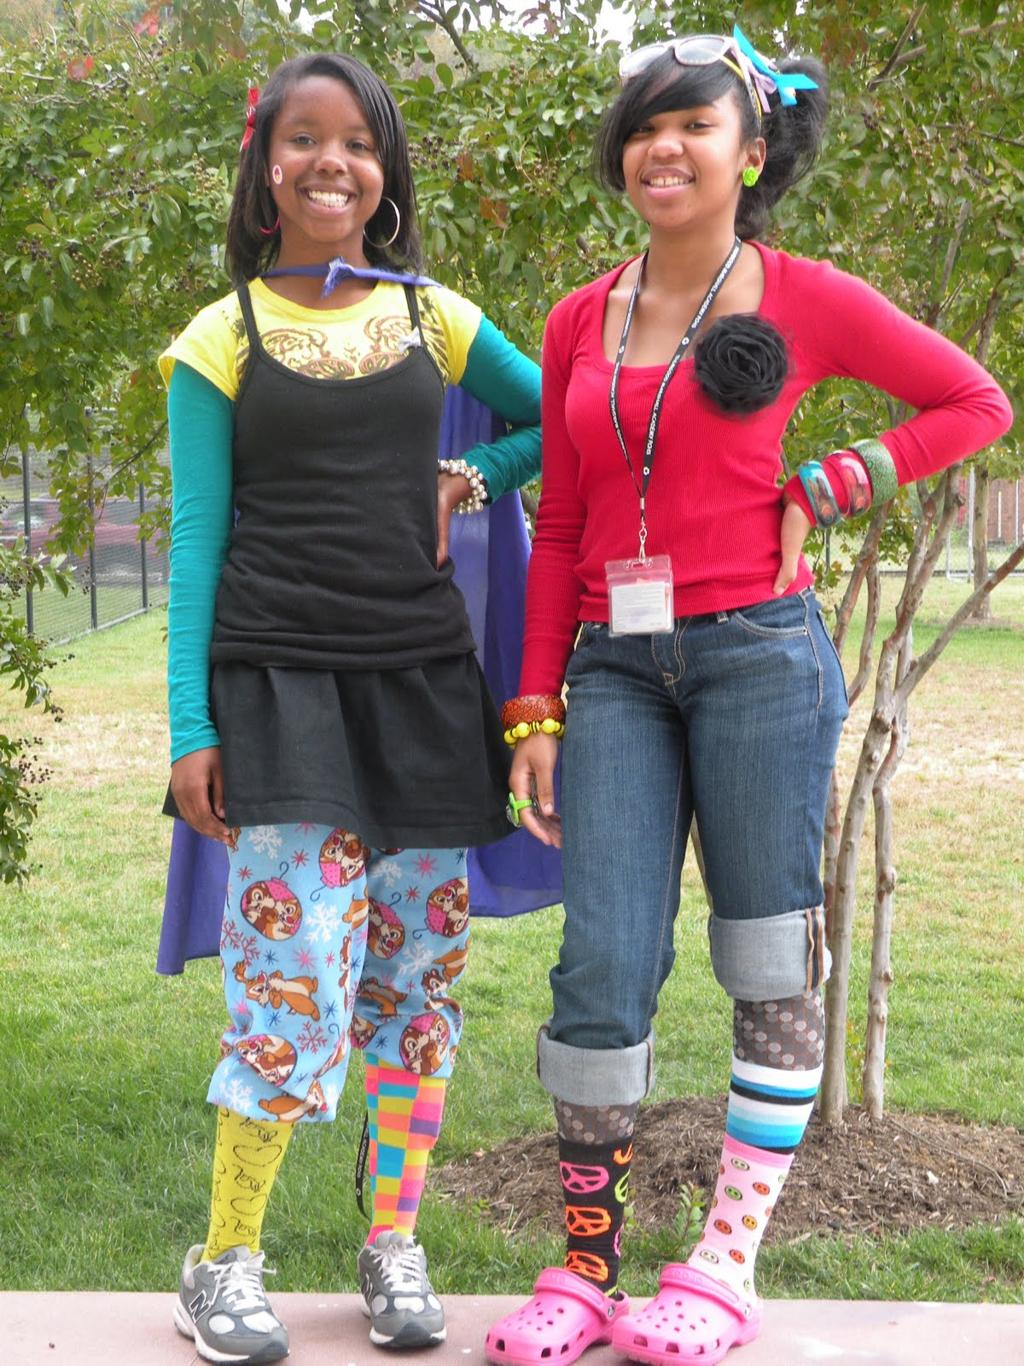face: (275, 80, 387, 240), (621, 77, 741, 224)
